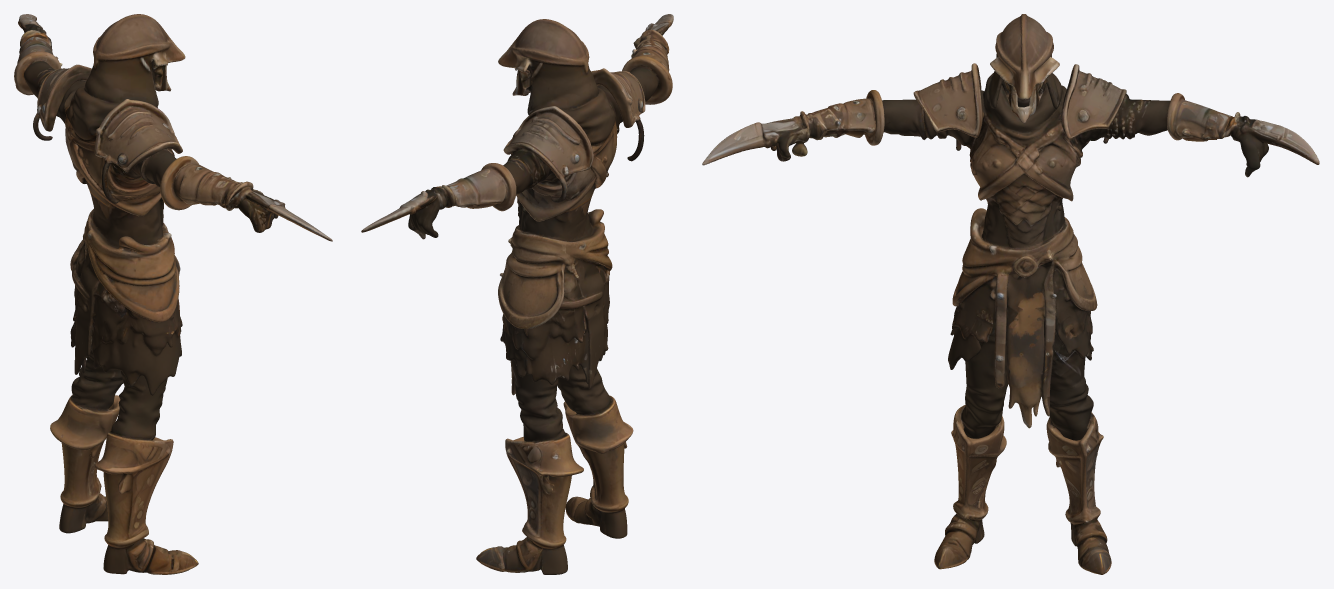
File: عدو_سفاح_الرمال.glb
3 renders of one model, left to right at view 1: azimuth 30°, elevation 25°; view 2: azimuth 150°, elevation 25°; view 3: azimuth 270°, elevation 25°, orthographic. The views are drawn at different scales.
Parts seen in each view (by area): view 1: tripo_node_471833a1-f92b-424a-9aba-f8b96ac47670; view 2: tripo_node_471833a1-f92b-424a-9aba-f8b96ac47670; view 3: tripo_node_471833a1-f92b-424a-9aba-f8b96ac47670.
Boxes of the visible parts, bbox=[...] form: tripo_node_471833a1-f92b-424a-9aba-f8b96ac47670: bbox=[14, 14, 332, 574]; tripo_node_471833a1-f92b-424a-9aba-f8b96ac47670: bbox=[361, 14, 673, 574]; tripo_node_471833a1-f92b-424a-9aba-f8b96ac47670: bbox=[702, 14, 1319, 574].
Size of the model in its own units: 0.2259 by 0.9672 by 1.
1 material, 1 textured.
